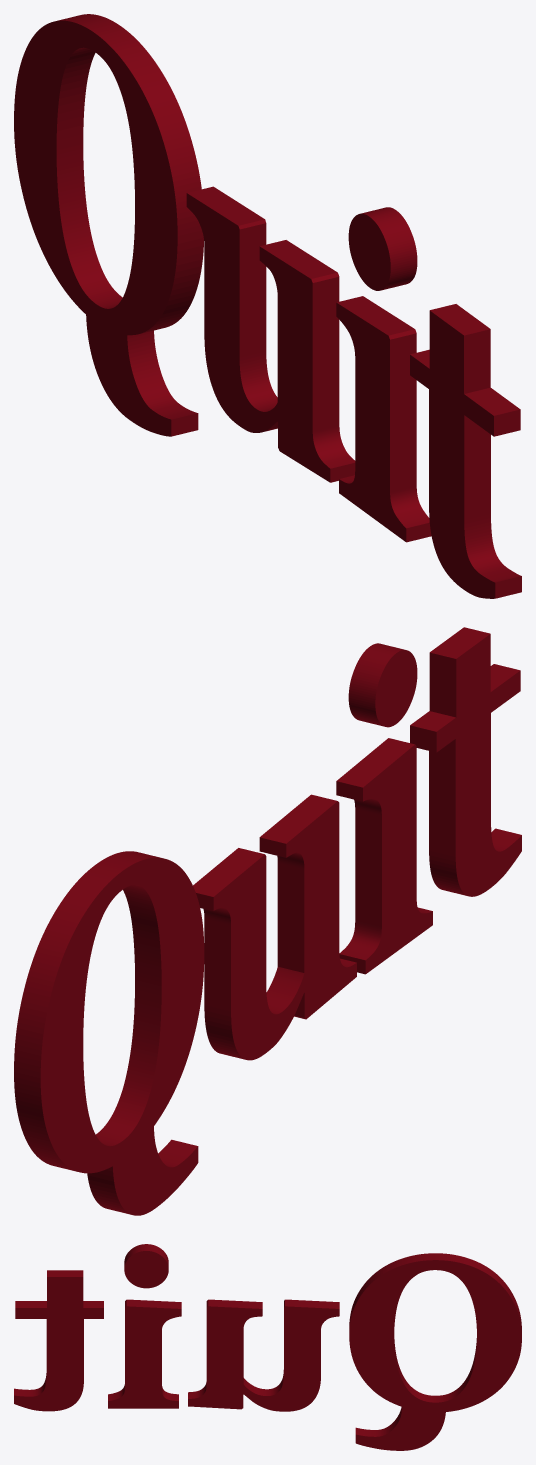
The model's file is textQuit.fbx.
3 renders of one model, top to bottom at view 1: azimuth 30°, elevation 25°; view 2: azimuth 150°, elevation 25°; view 3: azimuth 270°, elevation 25°, orthographic. The views are drawn at different scales.
Visible parts, largest first — view 1: textQuit; view 2: textQuit; view 3: textQuit.
Part boxes in pixels (x1,y1,x2,y2): textQuit: [14, 14, 521, 598]; textQuit: [14, 627, 521, 1215]; textQuit: [14, 1244, 521, 1450].
Size of the model in its own units: 4.4 by 59.71 by 137.
